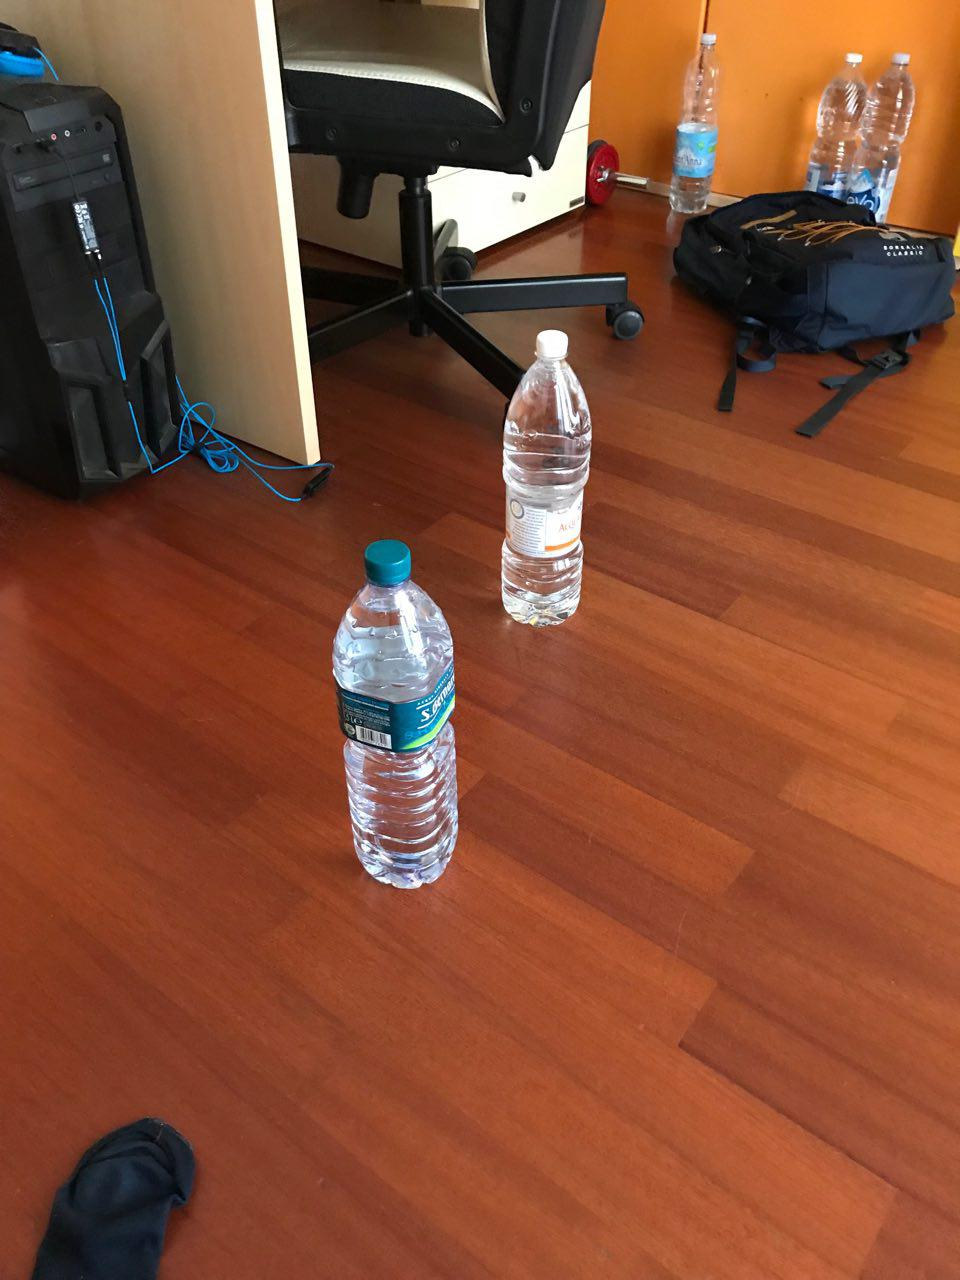san_bernardo: (331, 538, 459, 889)
